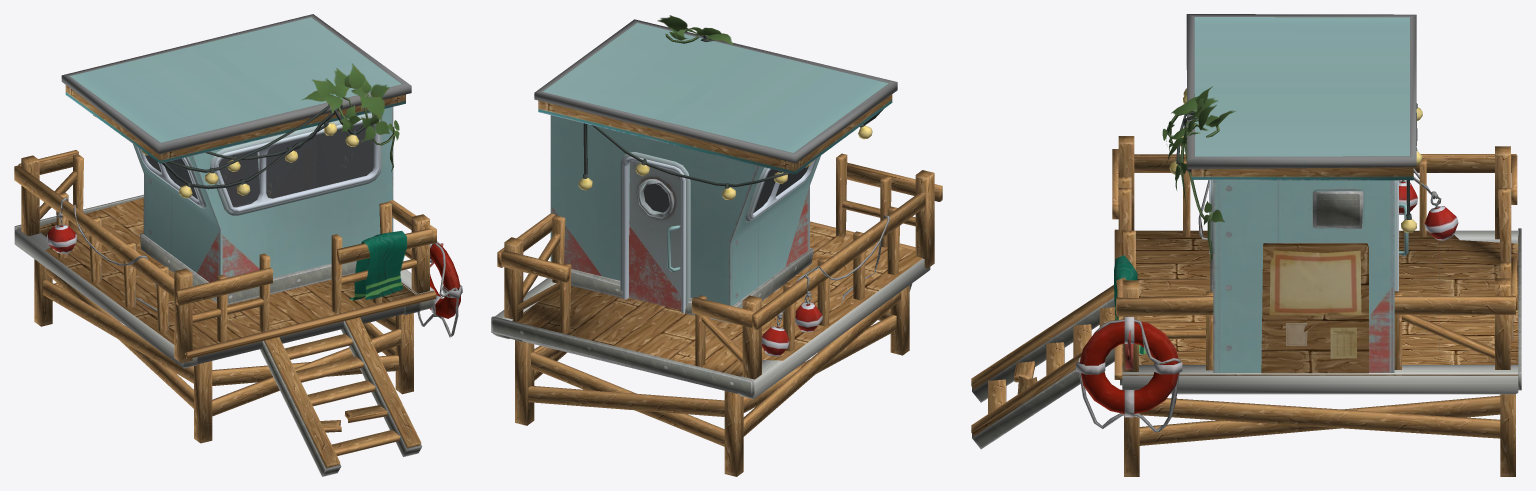
The model's file is lifeguard-tower.glow-v1.lod0.glb.
3 views of the same model, side by side, from view 1: azimuth 30°, elevation 25°; view 2: azimuth 150°, elevation 25°; view 3: azimuth 270°, elevation 25° (orthographic). The views are drawn at different scales.
Visible parts, largest first — view 1: Object_2, Object_3; view 2: Object_3, Object_2; view 3: Object_3, Object_2.
Boxes of the visible parts, bbox=[...] form: Object_2: bbox=[61, 14, 411, 300]; Object_3: bbox=[14, 150, 462, 476]; Object_3: bbox=[491, 153, 942, 476]; Object_2: bbox=[534, 15, 897, 313]; Object_3: bbox=[971, 136, 1521, 476]; Object_2: bbox=[1114, 14, 1422, 372].
Size of the model in its own units: 4.35 by 4.6 by 6.29.
Materials: 2 (2 with a texture image).
